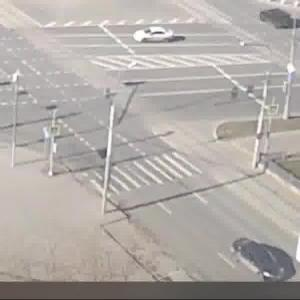car: (229, 233, 287, 283), (257, 8, 300, 32), (135, 25, 175, 46)
